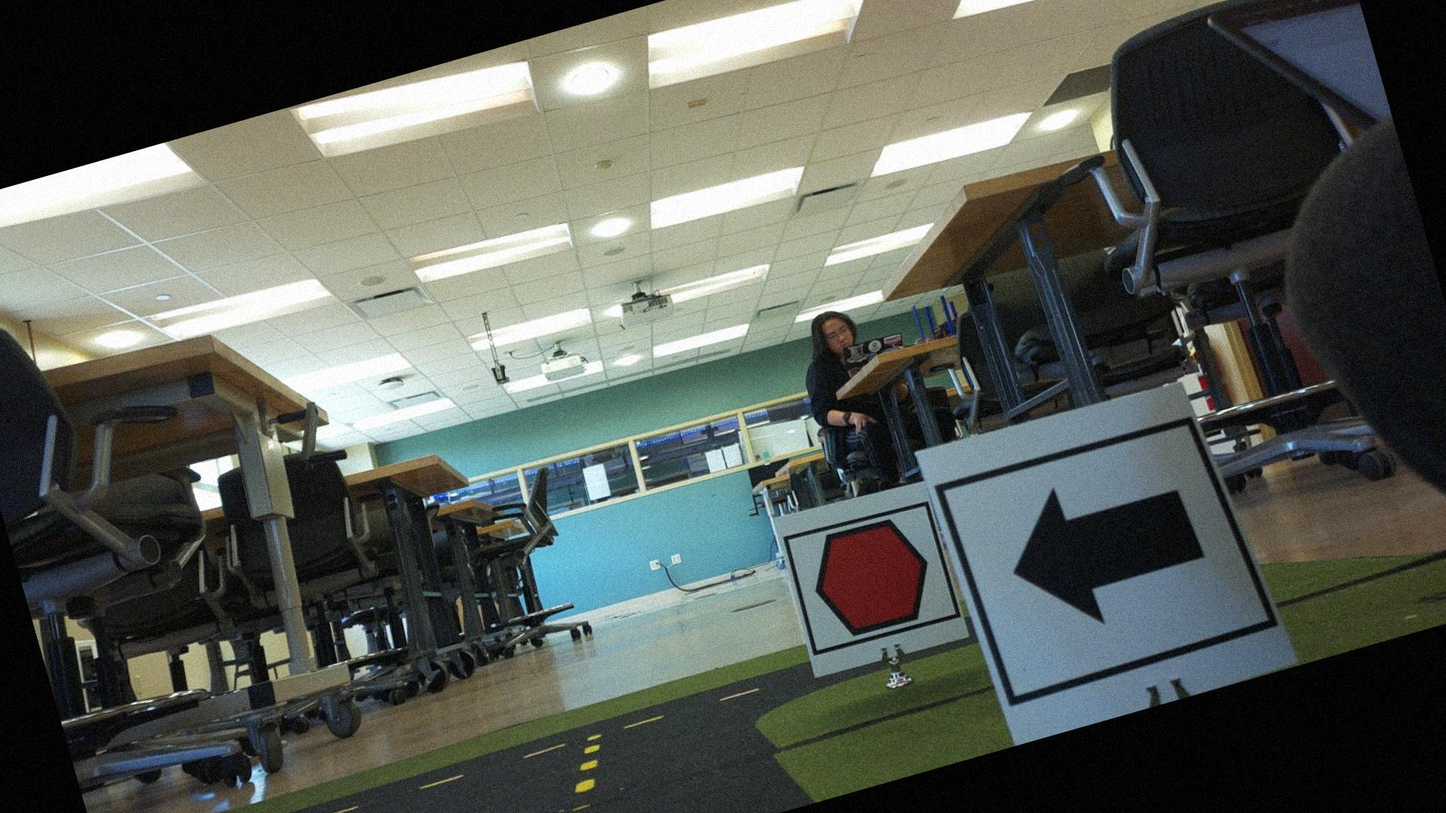stop: (782, 500, 956, 654)
turnright: (944, 416, 1254, 702)
yellowline: (517, 741, 628, 812)
